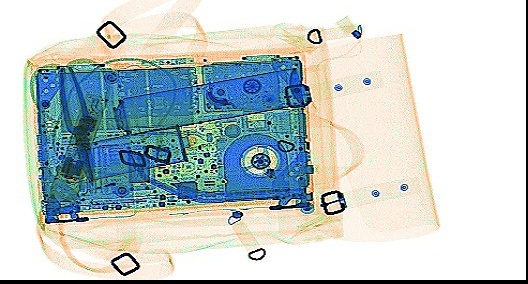pressure: (110, 64, 303, 134)
scissors: (26, 56, 112, 186)
zippooil: (89, 121, 195, 179)
